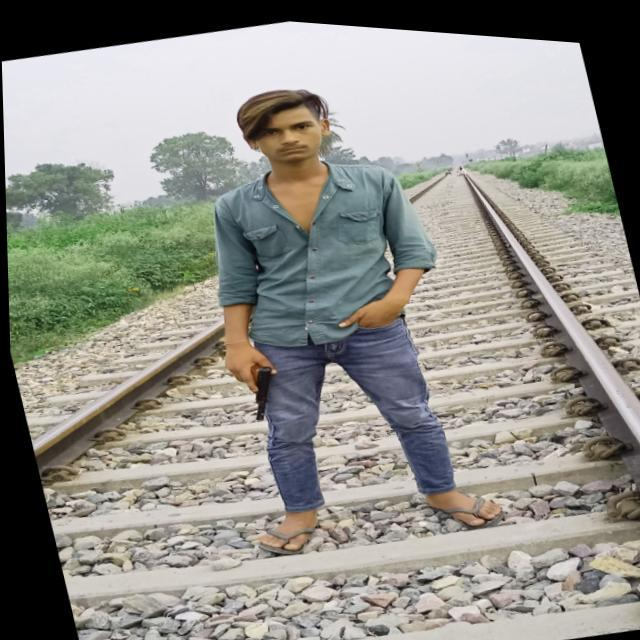weapon: (223, 350, 284, 423)
